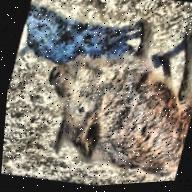boar: (22, 11, 192, 191)
